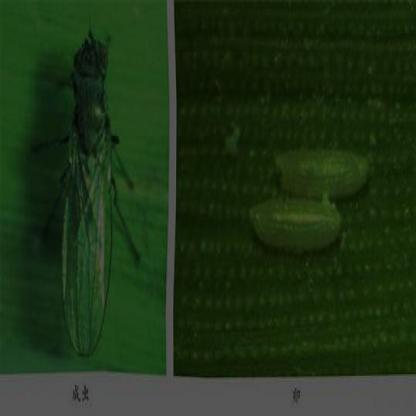whorl-maggot: (264, 136, 374, 201), (244, 194, 346, 260)
